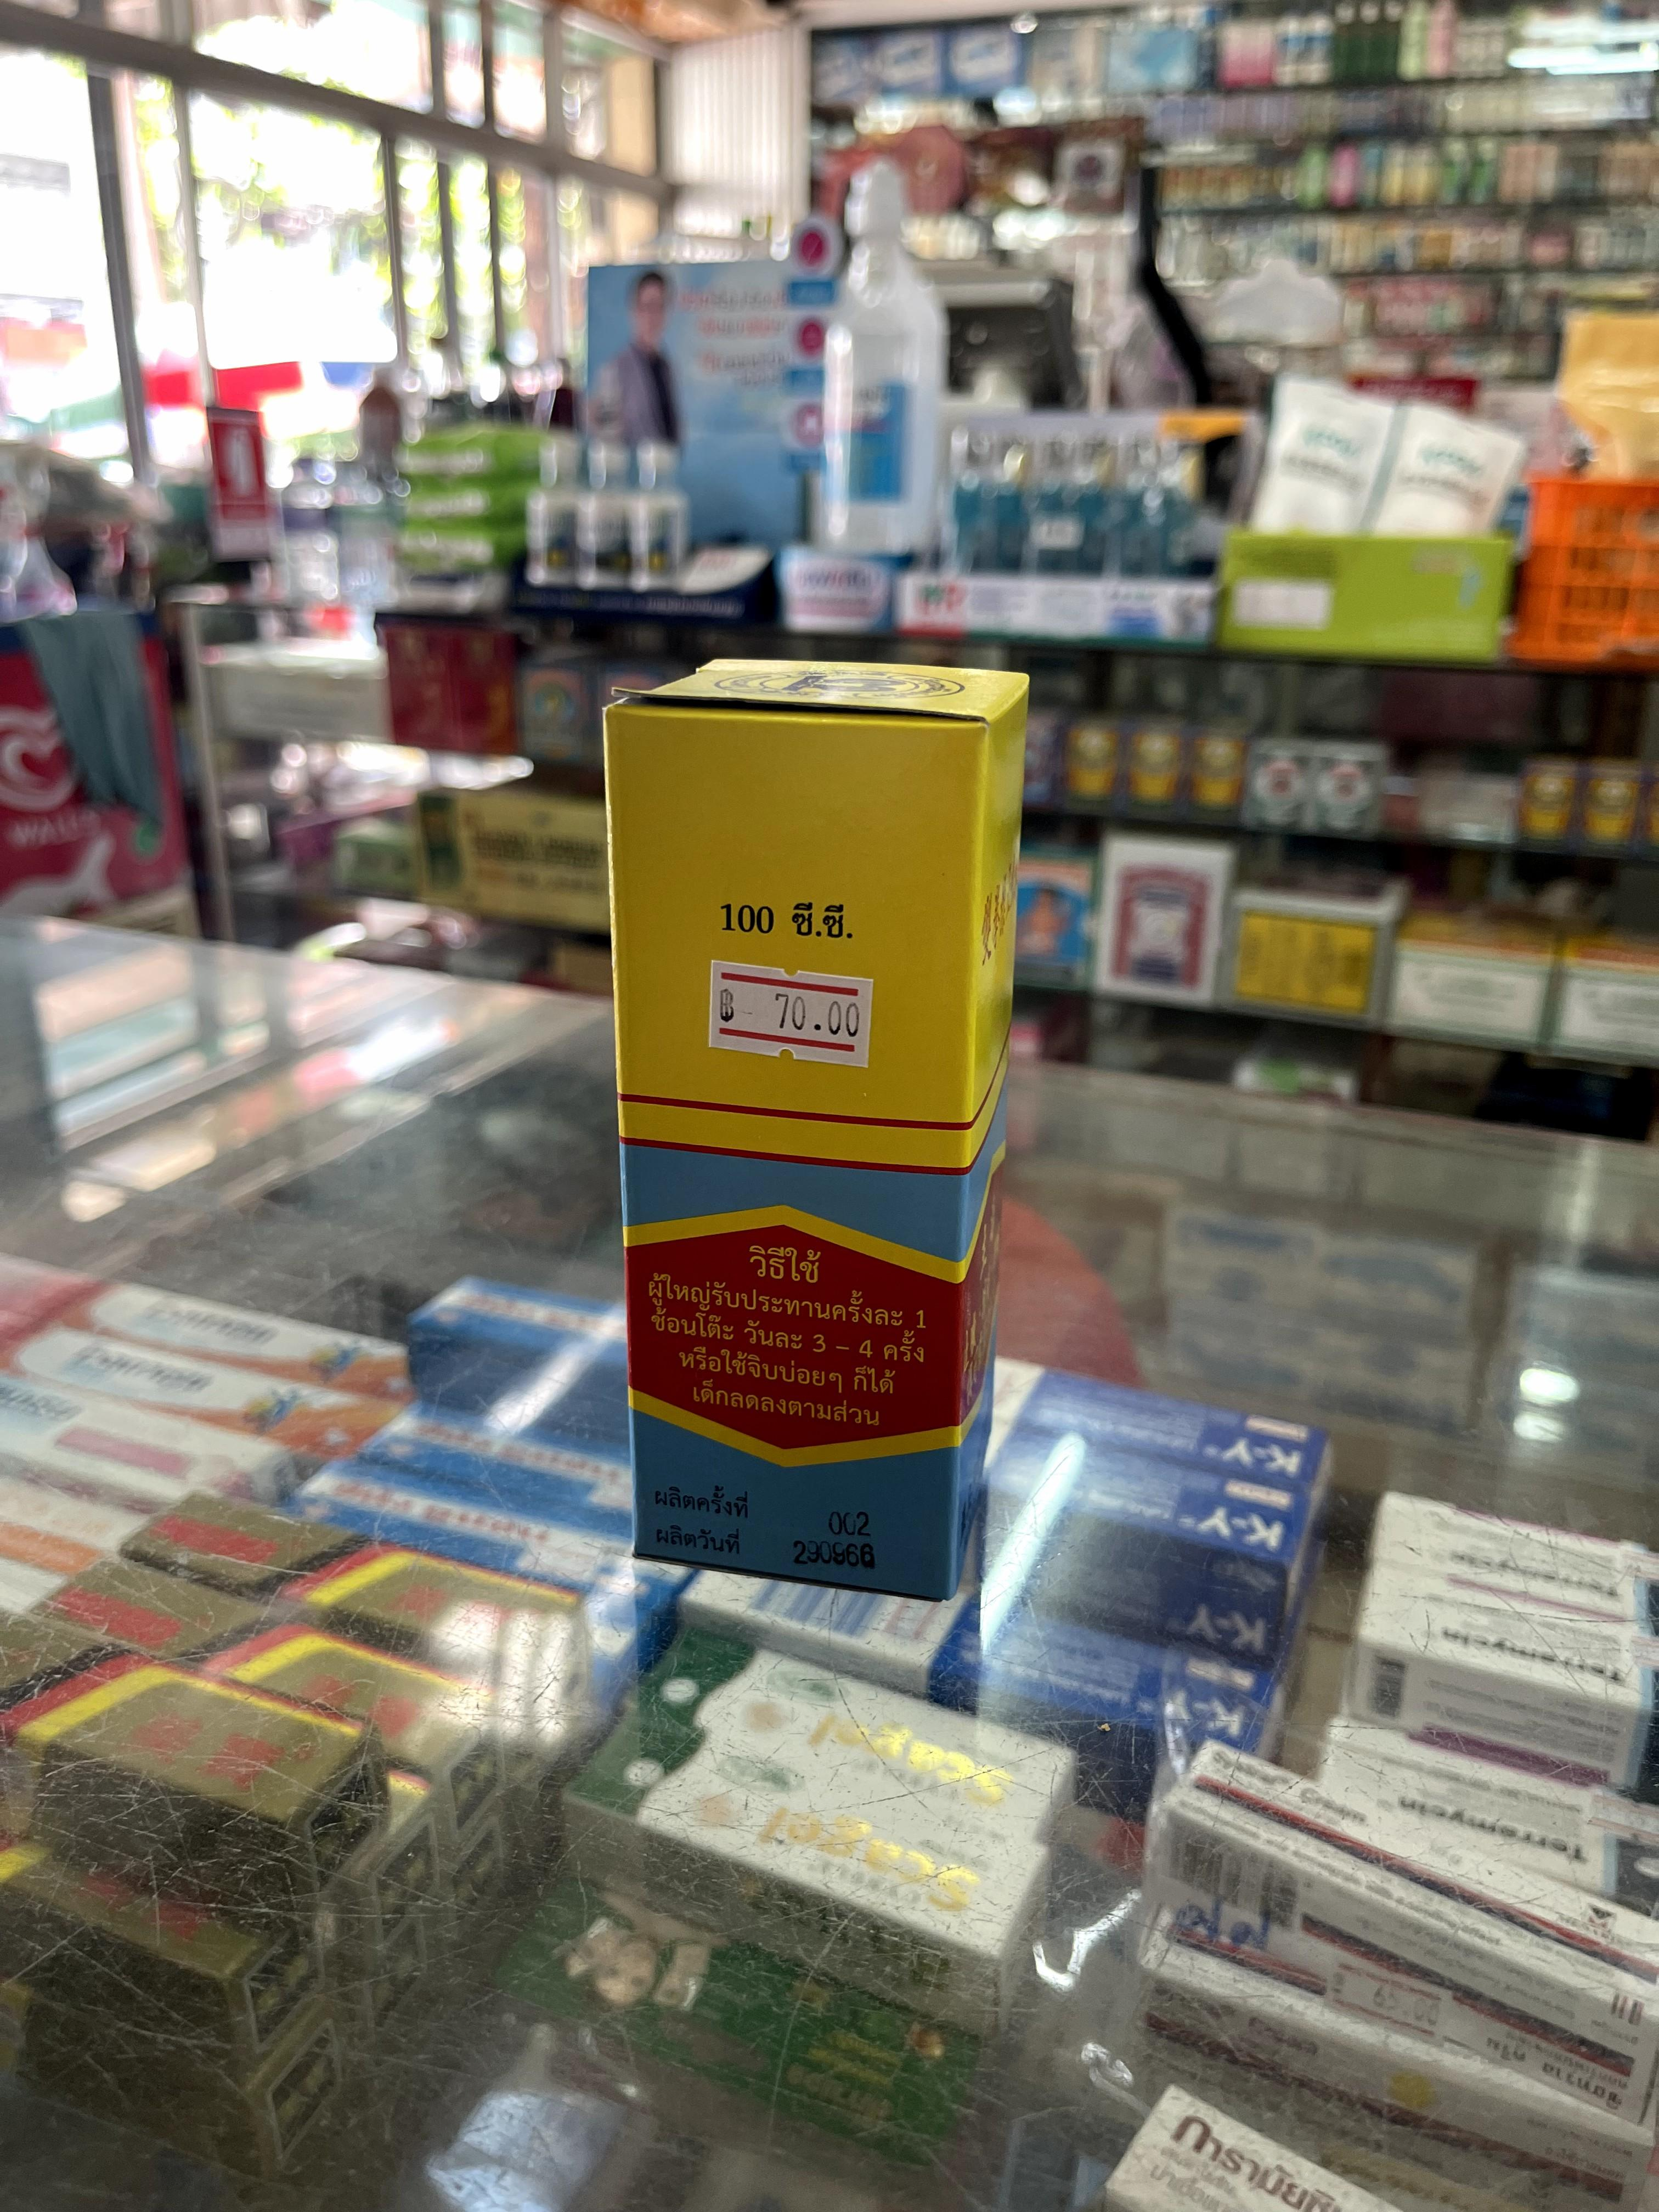Ma-Kham-Pom: (603, 658, 1021, 1599)
